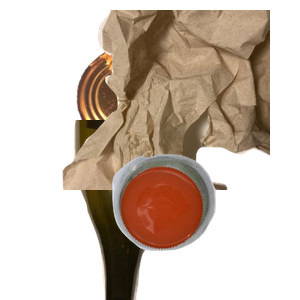glass: (71, 120, 254, 300)
metal: (74, 41, 229, 181)
plastic: (110, 152, 300, 300)
trash: (60, 10, 300, 190)
